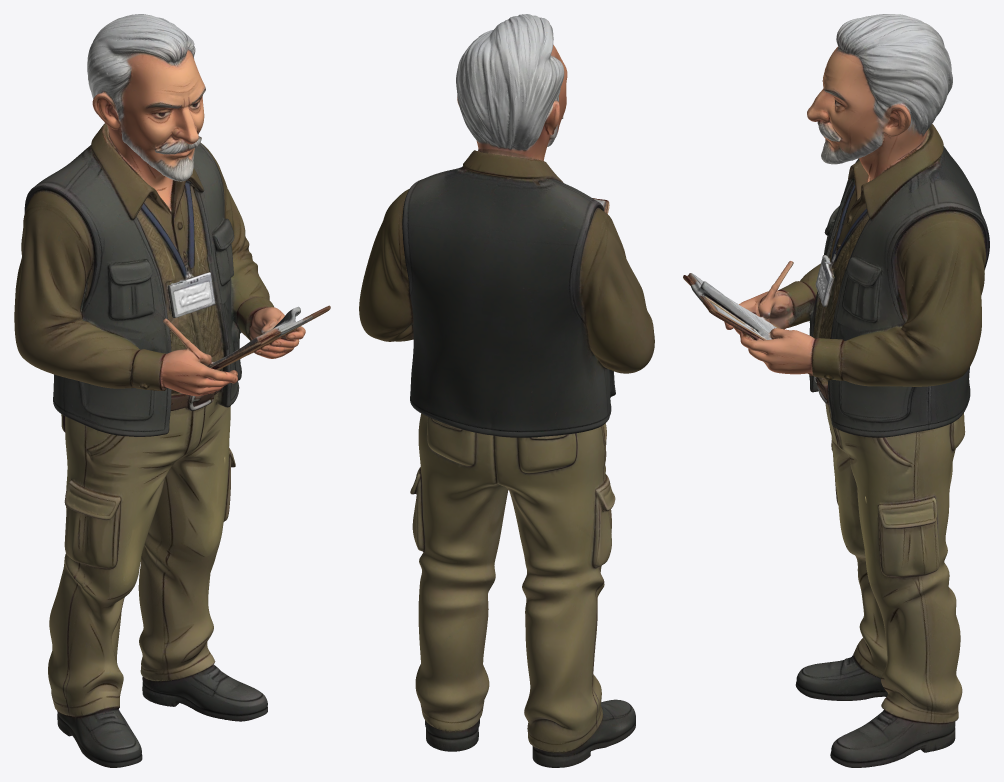
The model's file is don_carlos_meshy.glb.
The picture shows the model from 3 angles, left to right: view 1: azimuth 30°, elevation 25°; view 2: azimuth 150°, elevation 25°; view 3: azimuth 270°, elevation 25°; orthographic projection.
Parts seen in each view (by area): view 1: Mesh_0; view 2: Mesh_0; view 3: Mesh_0.
Part boxes in pixels (x1=…): Mesh_0: x1=14, y1=14, x2=330, y2=767; Mesh_0: x1=359, y1=14, x2=654, y2=767; Mesh_0: x1=683, y1=14, x2=989, y2=767.
Size of the model in its own units: 0.6431 by 1.7 by 0.6752.
1 material, 1 textured.
